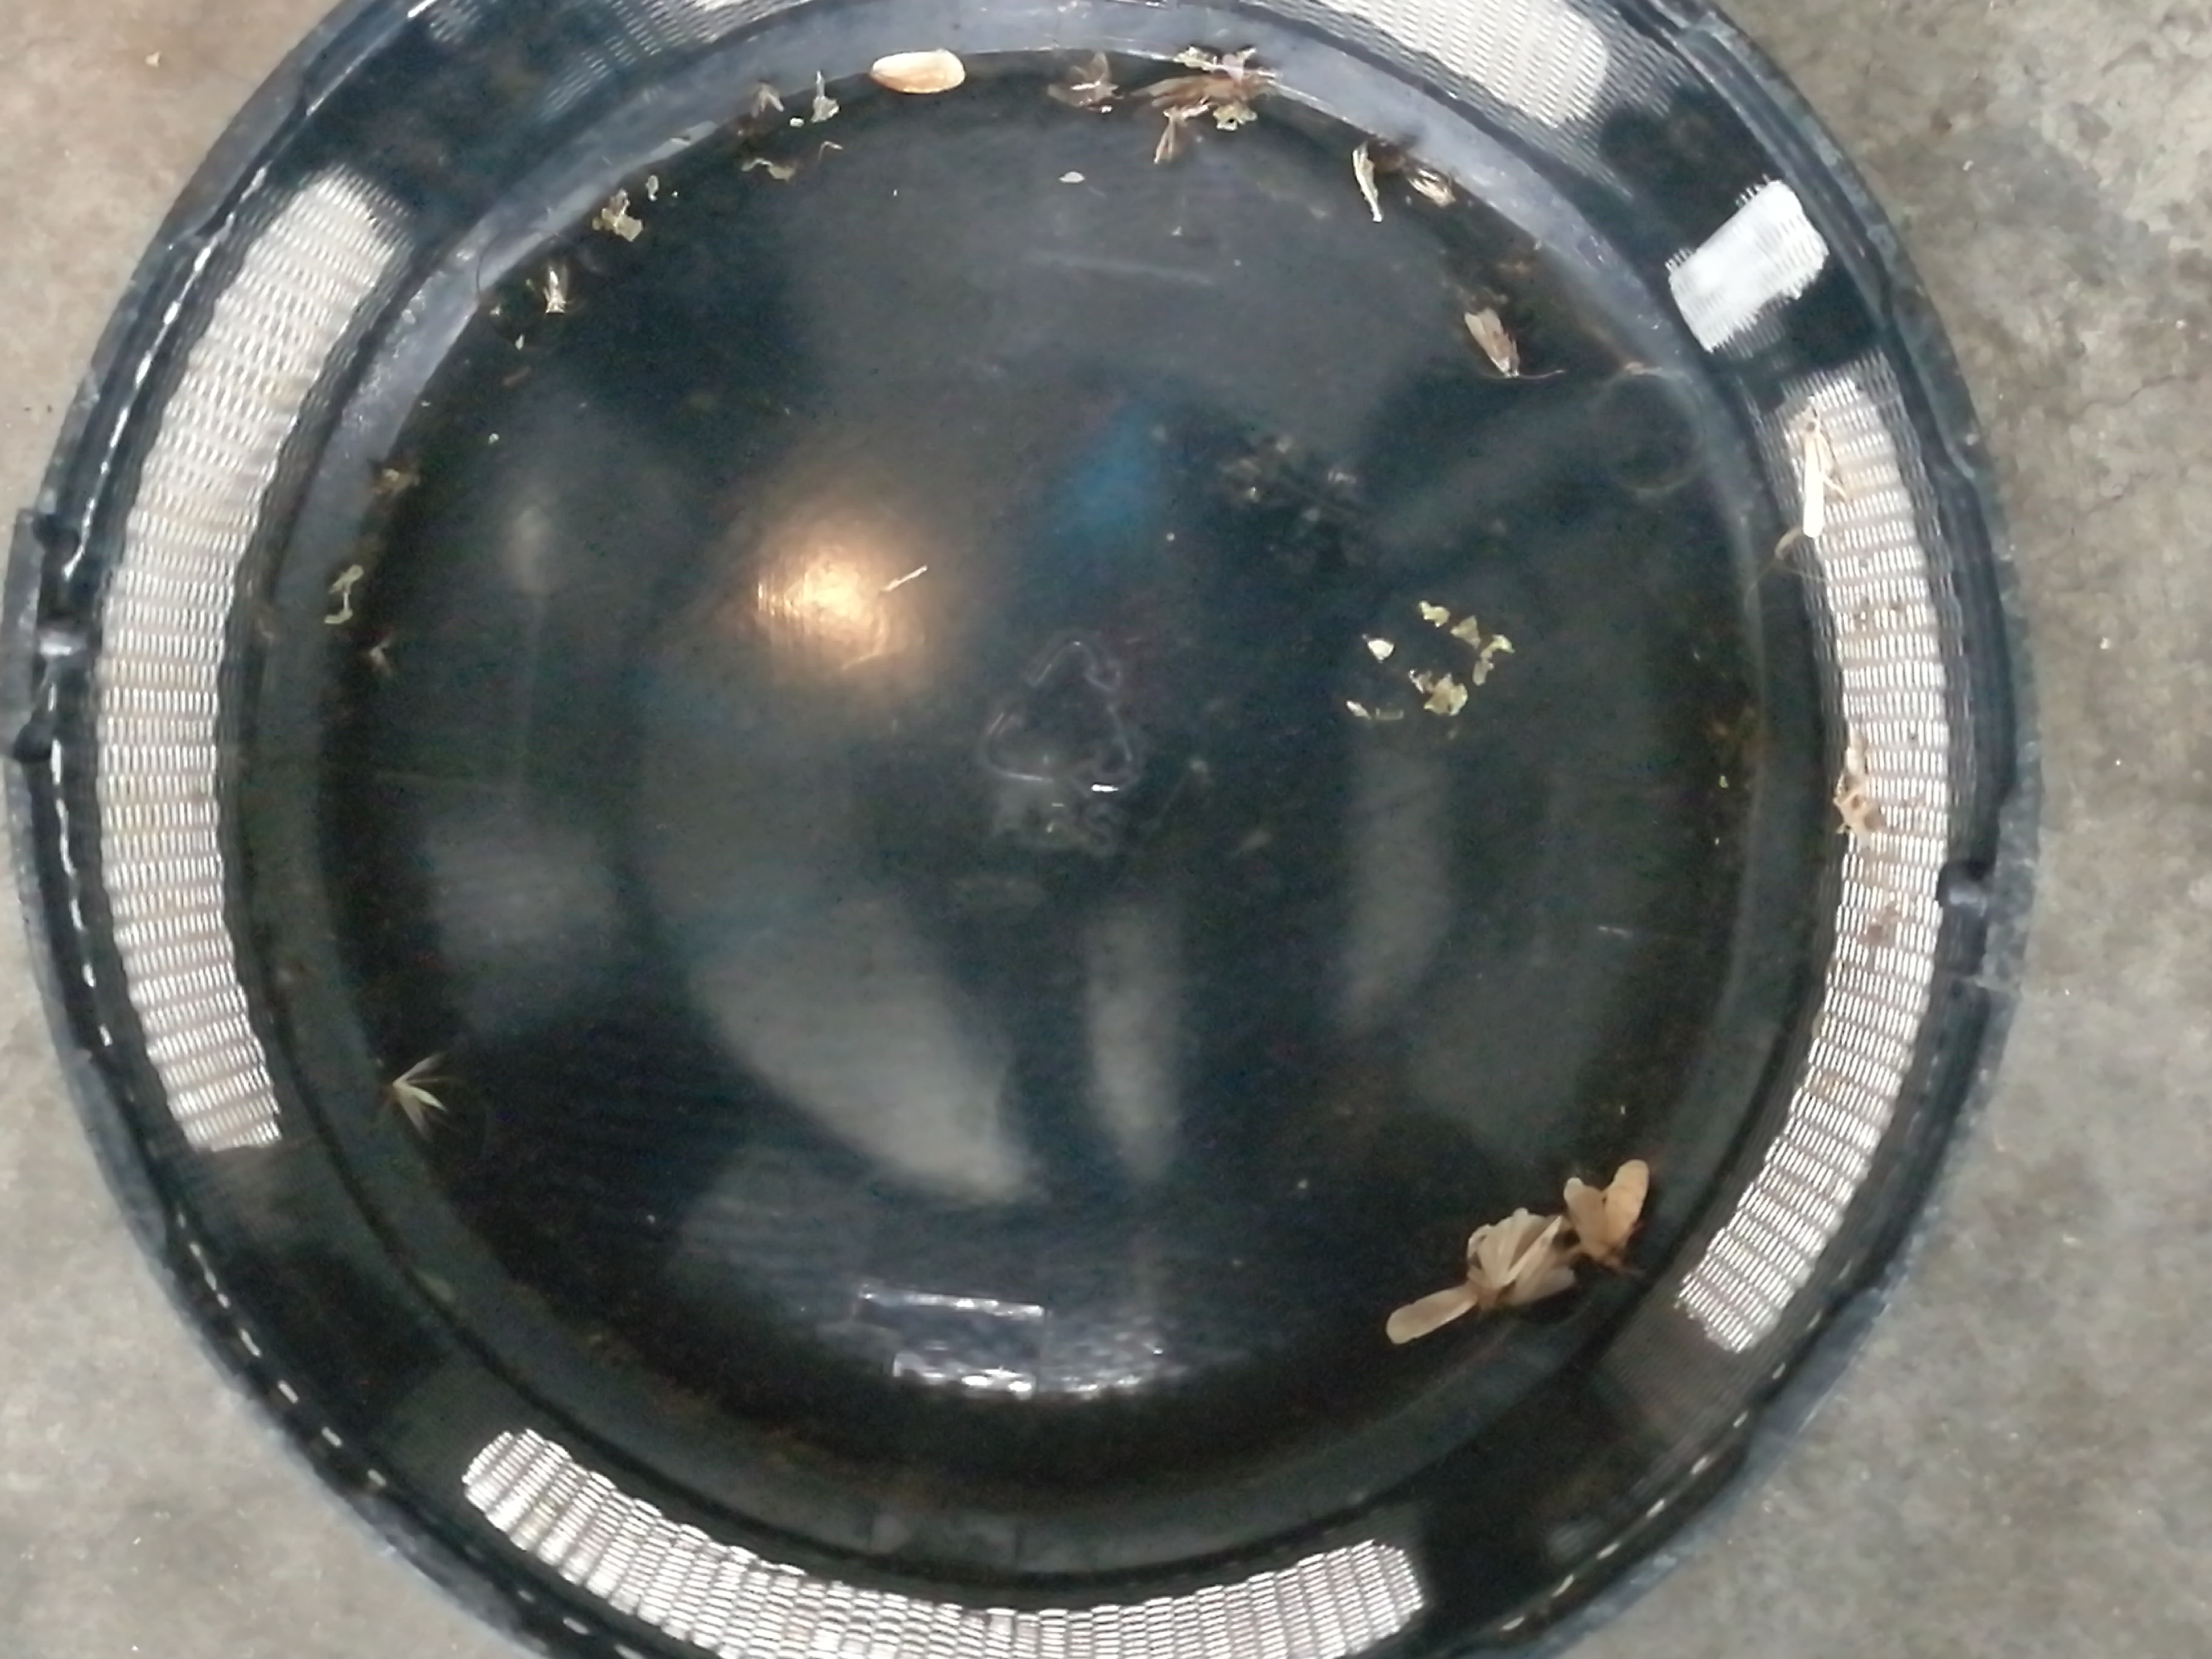mosquito: (1465, 308, 1519, 380), (1150, 77, 1249, 110), (543, 256, 568, 315)
moth: (1385, 1211, 1575, 1342), (1564, 1159, 1649, 1267)
